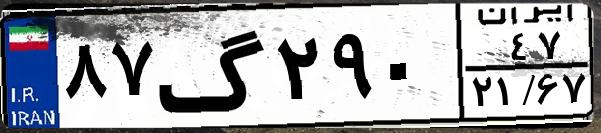0: (385, 28, 445, 110)
1: (495, 70, 520, 125)
2: (270, 28, 330, 110), (470, 70, 495, 125)
4: (508, 27, 537, 80)
6: (535, 70, 560, 125)
7: (110, 28, 156, 98), (560, 70, 590, 125), (537, 27, 568, 80)
8: (57, 26, 110, 100)
9: (330, 28, 385, 110)
گ: (156, 12, 270, 120)
